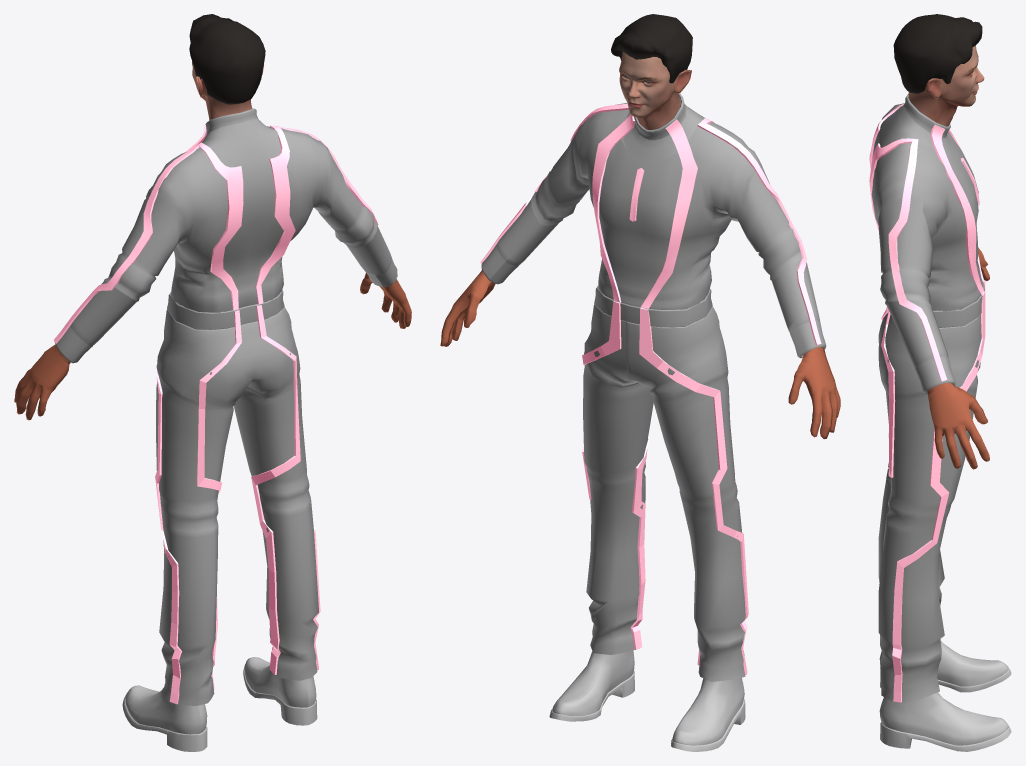
Rendered from ceo_gsb 1.fbx.
3 views of the same model, side by side, from view 1: azimuth 30°, elevation 25°; view 2: azimuth 150°, elevation 25°; view 3: azimuth 270°, elevation 25° (orthographic).
Parts seen in each view (by area): view 1: pan_geo, tshirt_geo, line_geo, shoe_geo, hair_geo, body_geo, body_geo1, Head_geo; view 2: pan_geo, tshirt_geo, line_geo, shoe_geo, Head_geo, hair_geo, body_geo, body_geo1; view 3: pan_geo, tshirt_geo, line_geo, shoe_geo, hair_geo, body_geo1, Head_geo.
Part boxes in pixels (<box>): pan_geo: <box>156,290,318,705</box>; tshirt_geo: <box>55,108,397,363</box>; line_geo: <box>54,125,378,704</box>; shoe_geo: <box>122,657,317,751</box>; hair_geo: <box>189,14,265,104</box>; body_geo: <box>14,344,70,420</box>; body_geo1: <box>360,273,411,328</box>; Head_geo: <box>192,61,263,120</box>; pan_geo: <box>583,285,745,681</box>; tshirt_geo: <box>481,93,826,358</box>; line_geo: <box>480,103,821,675</box>; shoe_geo: <box>549,650,745,751</box>; Head_geo: <box>619,51,691,129</box>; hair_geo: <box>611,14,692,83</box>; body_geo: <box>788,347,840,439</box>; body_geo1: <box>440,270,495,346</box>; pan_geo: <box>878,281,984,702</box>; tshirt_geo: <box>871,94,983,393</box>; line_geo: <box>869,104,985,702</box>; shoe_geo: <box>879,641,1011,751</box>; hair_geo: <box>893,14,982,93</box>; body_geo1: <box>927,383,989,469</box>; Head_geo: <box>908,45,984,126</box>.
Bounding box in the file's own units: 106 × 183 × 33.97.
